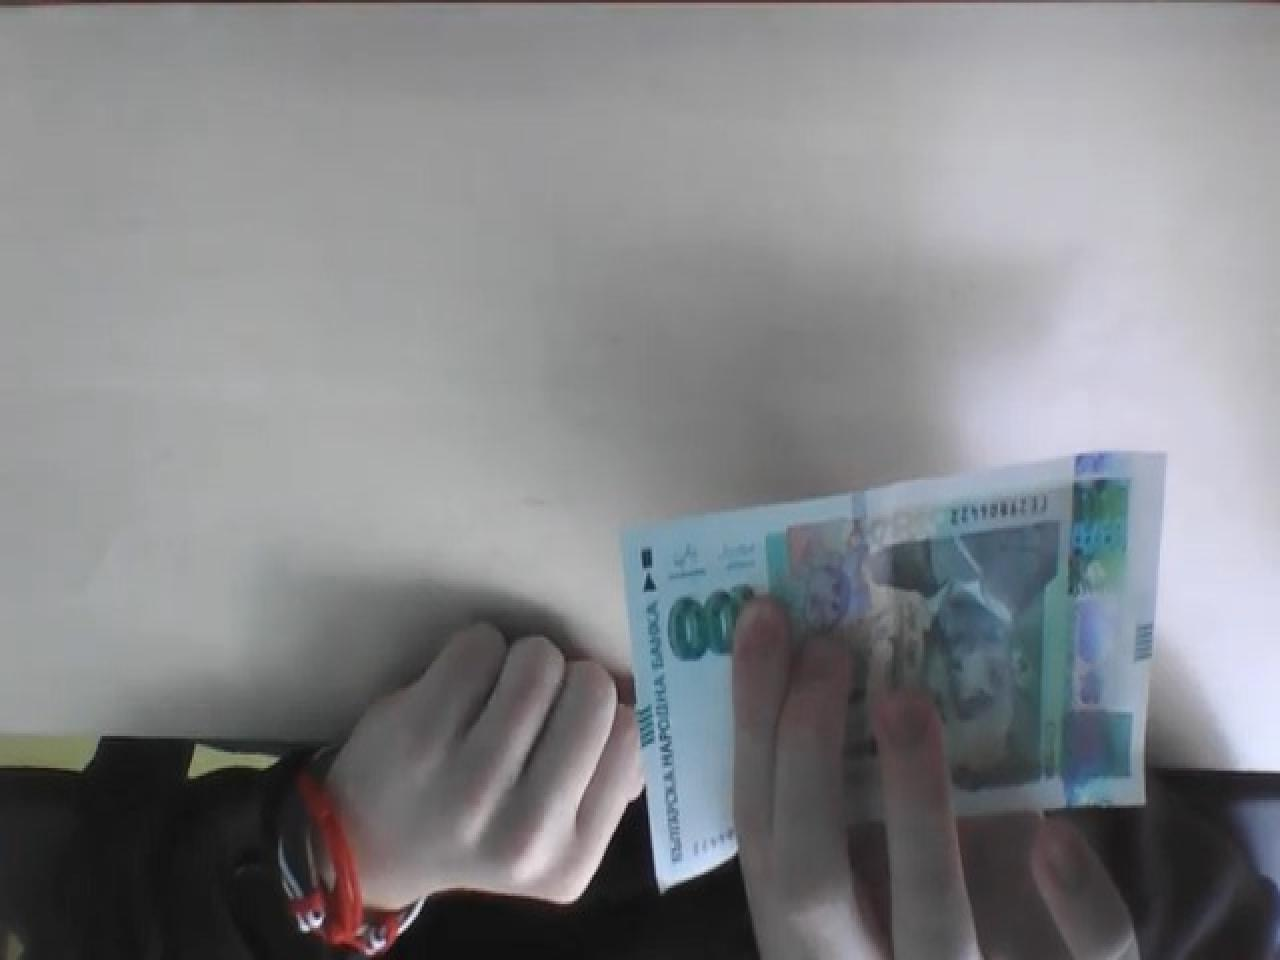100leva: (620, 449, 1168, 882)
